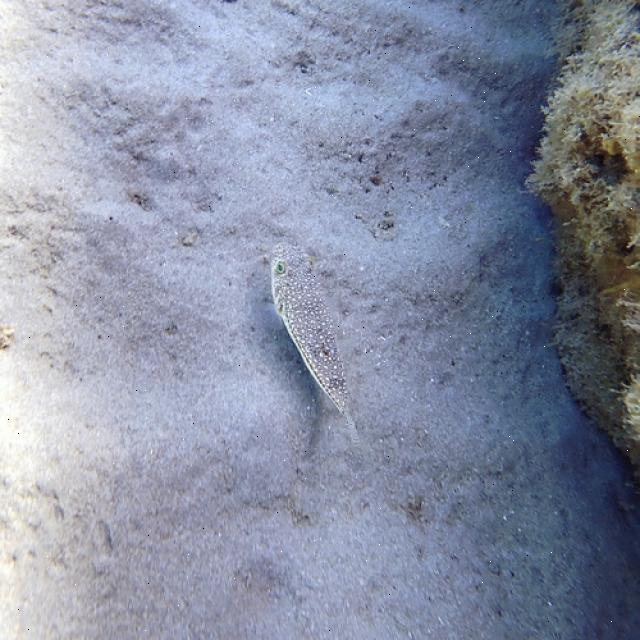Balik: (272, 245, 358, 442)
